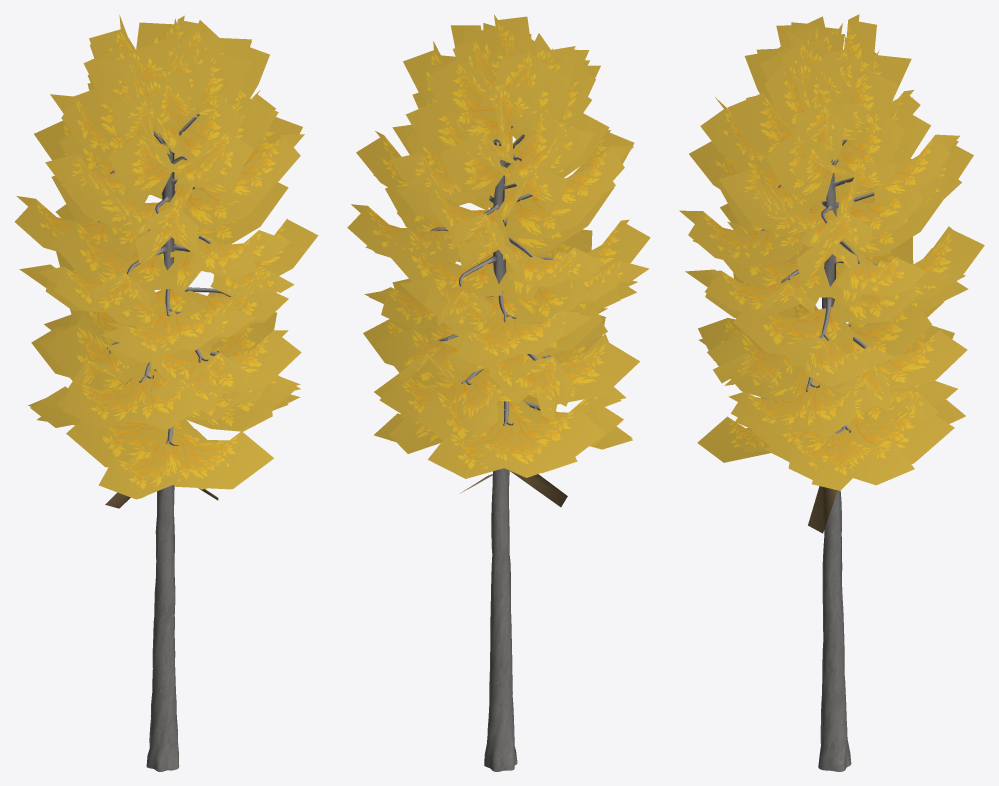
Rendered from TreeVariation_LOD1.fbx.
3 views of the same model, side by side, from view 1: azimuth 30°, elevation 25°; view 2: azimuth 150°, elevation 25°; view 3: azimuth 270°, elevation 25° (orthographic).
Parts seen in each view (by area): view 1: leaves_1, bark_base_0; view 2: leaves_1, bark_base_0, branch_2; view 3: leaves_1, bark_base_0, branch_2.
Boxes of the visible parts, x1,y1,x2,y2 form: leaves_1: (15, 14, 318, 499); bark_base_0: (98, 114, 231, 771); leaves_1: (347, 14, 650, 478); bark_base_0: (430, 126, 558, 771); branch_2: (460, 470, 567, 506); leaves_1: (679, 14, 984, 490); bark_base_0: (761, 140, 877, 771); branch_2: (808, 486, 837, 533).
Bounding box in the file's own units: 509 × 1369 × 517.
